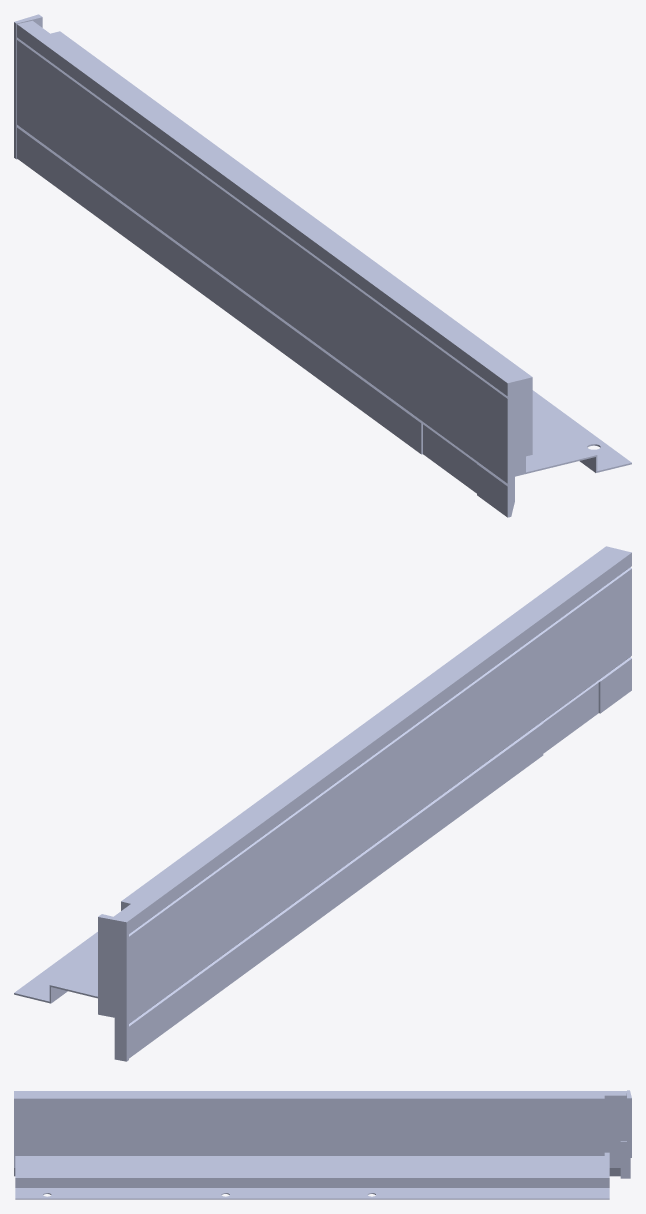
The model's file is lg-kava-N450-p.glb.
3 views of the same model, one above another, from view 1: azimuth 30°, elevation 25°; view 2: azimuth 150°, elevation 25°; view 3: azimuth 270°, elevation 25° (orthographic). The views are drawn at different scales.
Parts seen in each view (by area): view 1: 43065233; view 2: 43065233; view 3: 43065233.
Boxes of the visible parts, box(x1,y1,x2,y2) form: 43065233: box(14, 14, 631, 517); 43065233: box(14, 546, 631, 1061); 43065233: box(14, 1090, 631, 1199).
Bounding box in the file's own units: 0.0653 × 0.0672 × 0.4435.
